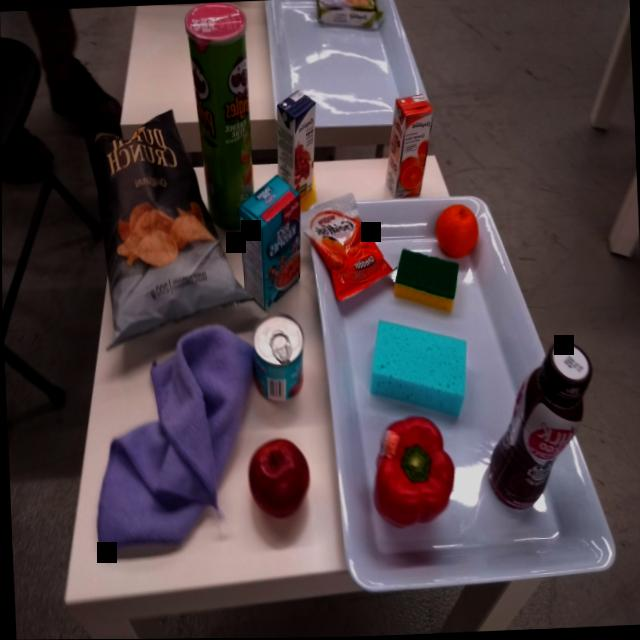apple: (244, 434, 313, 521)
cereal: (235, 168, 306, 315)
chocolate_drink: (477, 334, 599, 511)
cloth_opl: (83, 322, 265, 563)
crackers: (294, 191, 398, 310)
grape_juice: (271, 86, 320, 202)
orange: (432, 199, 480, 263)
orange_juice: (376, 92, 438, 204)
paprika: (365, 414, 458, 532)
potato_chips: (78, 101, 255, 348)
sausages: (248, 312, 307, 405)
sponge_opl: (365, 314, 472, 420)
